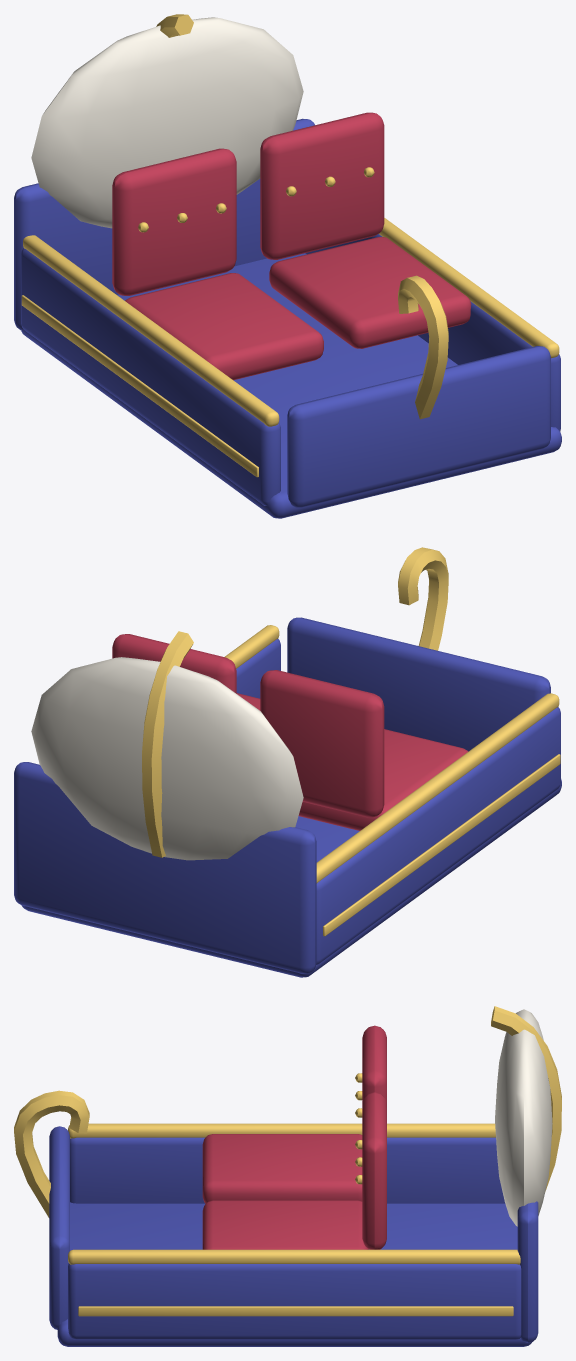
Rendered from carousel_carriage.glb.
3 renders of one model, top to bottom at view 1: azimuth 30°, elevation 25°; view 2: azimuth 150°, elevation 25°; view 3: azimuth 270°, elevation 25°, orthographic. The views are drawn at different scales.
Parts seen in each view (by area): view 1: carousel_carriage; view 2: carousel_carriage; view 3: carousel_carriage.
Part boxes in pixels (x1,y1,x2,y2): carousel_carriage: [14, 14, 561, 518]; carousel_carriage: [14, 547, 561, 977]; carousel_carriage: [14, 1006, 561, 1346].
Size of the model in its own units: 1.56 by 1.47 by 2.64.
